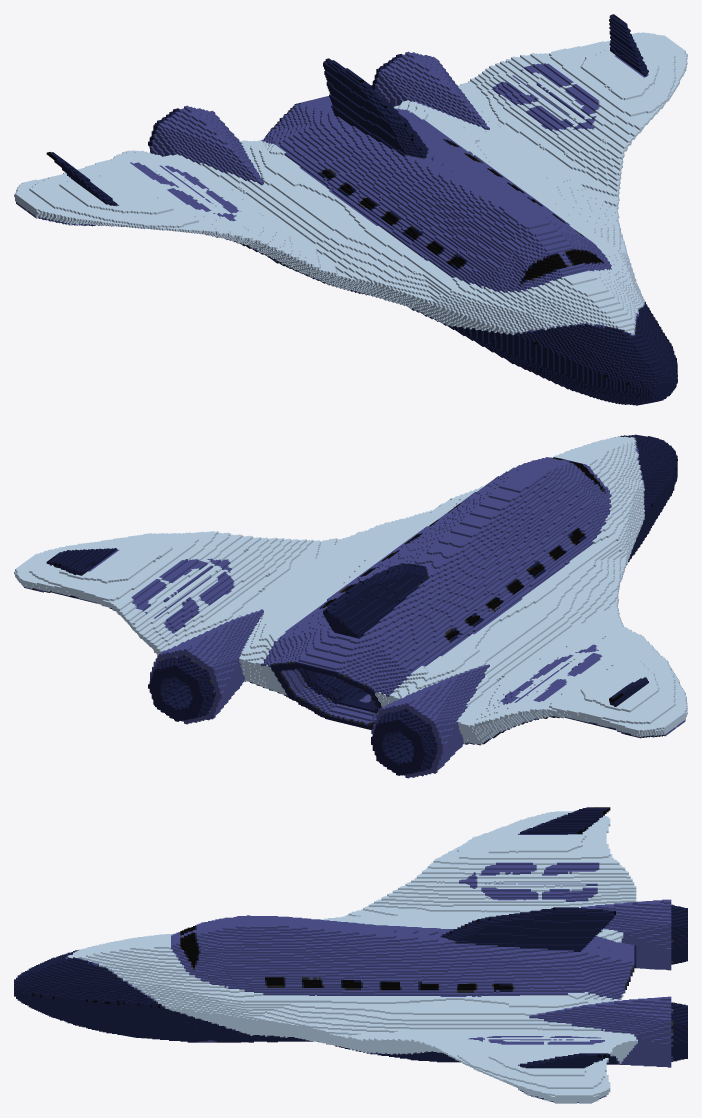
Rendered from Ship_voxel_open_door.fbx.
The picture shows the model from 3 angles, top to bottom: view 1: azimuth 30°, elevation 25°; view 2: azimuth 150°, elevation 25°; view 3: azimuth 270°, elevation 25°; orthographic projection. The views are drawn at different scales.
Visible parts, largest first — view 1: sd_exported_6, sd_exported_4, sd_exported_1, sd_exported_0, sd_exported_2, sd_exported_5, sd_exported_3; view 2: sd_exported_1, sd_exported_4, sd_exported_2, sd_exported_0, sd_exported_6, sd_exported_3, sd_exported_5; view 3: sd_exported_4, sd_exported_6, sd_exported_1, sd_exported_0, sd_exported_2, sd_exported_3, sd_exported_5.
Boxes of the visible parts, <box> form: sd_exported_6: <box>444,220,677,405</box>; sd_exported_4: <box>303,137,629,337</box>; sd_exported_1: <box>190,54,517,210</box>; sd_exported_0: <box>396,14,687,157</box>; sd_exported_2: <box>14,105,302,231</box>; sd_exported_5: <box>162,210,403,300</box>; sd_exported_3: <box>521,105,662,239</box>; sd_exported_1: <box>178,563,519,775</box>; sd_exported_4: <box>305,465,629,638</box>; sd_exported_2: <box>396,639,687,778</box>; sd_exported_0: <box>14,533,302,724</box>; sd_exported_6: <box>455,434,677,564</box>; sd_exported_3: <box>166,519,401,586</box>; sd_exported_5: <box>521,572,662,656</box>; sd_exported_4: <box>239,915,464,1042</box>; sd_exported_6: <box>14,916,239,1042</box>; sd_exported_1: <box>464,904,687,1015</box>; sd_exported_0: <box>464,997,687,1103</box>; sd_exported_2: <box>464,807,687,919</box>; sd_exported_3: <box>283,1016,464,1063</box>; sd_exported_5: <box>320,844,464,922</box>.
Bounding box in the file's own units: 36.4 × 7.5 × 36.5.
Materials: 7 (7 with a texture image).
